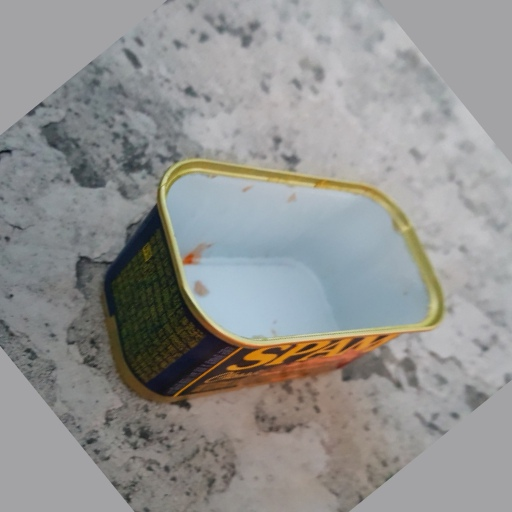Metal_2: (101, 157, 449, 406)
